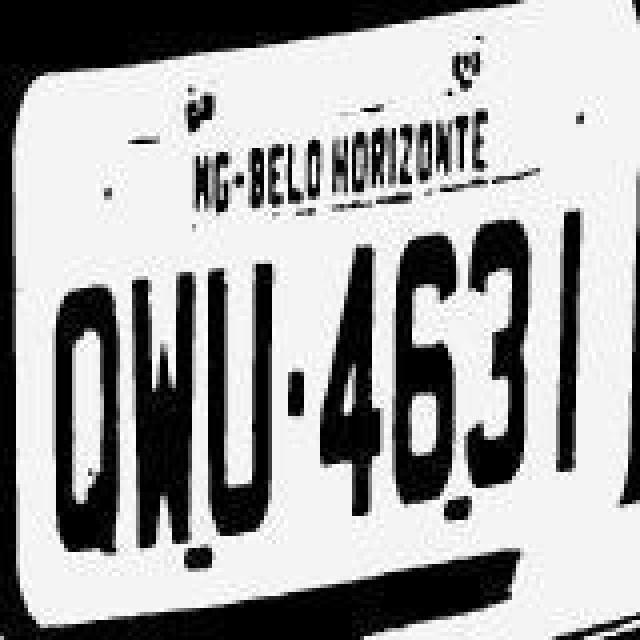1: (536, 202, 592, 470)
3: (458, 224, 534, 488)
4: (320, 236, 392, 516)
6: (384, 234, 464, 502)
Q: (44, 290, 132, 558)
U: (200, 266, 280, 542)
W: (128, 272, 200, 544)
